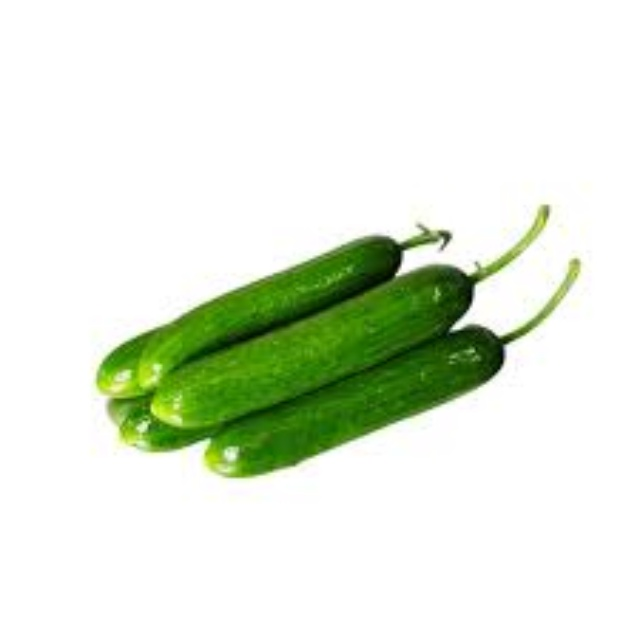dua_leo: (143, 261, 481, 429), (197, 324, 519, 484)
